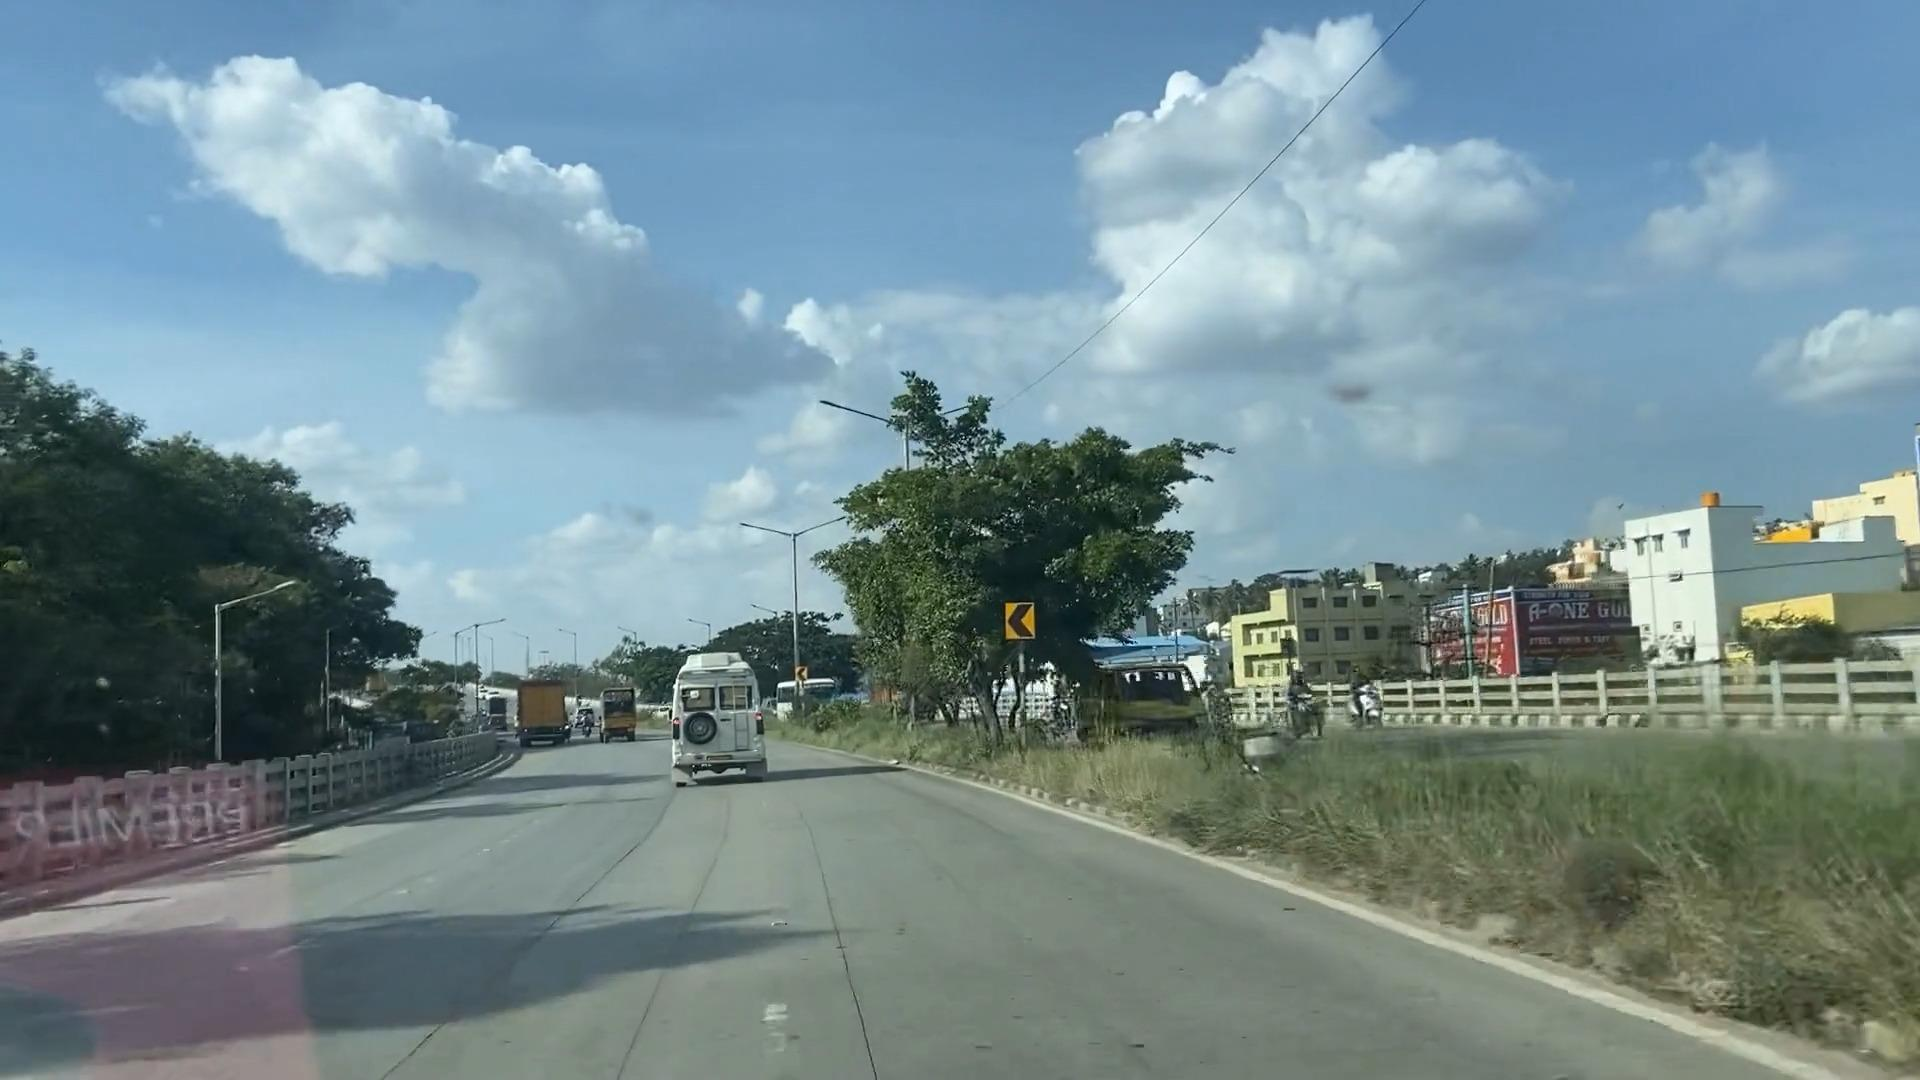HMV: (657, 645, 775, 796)
